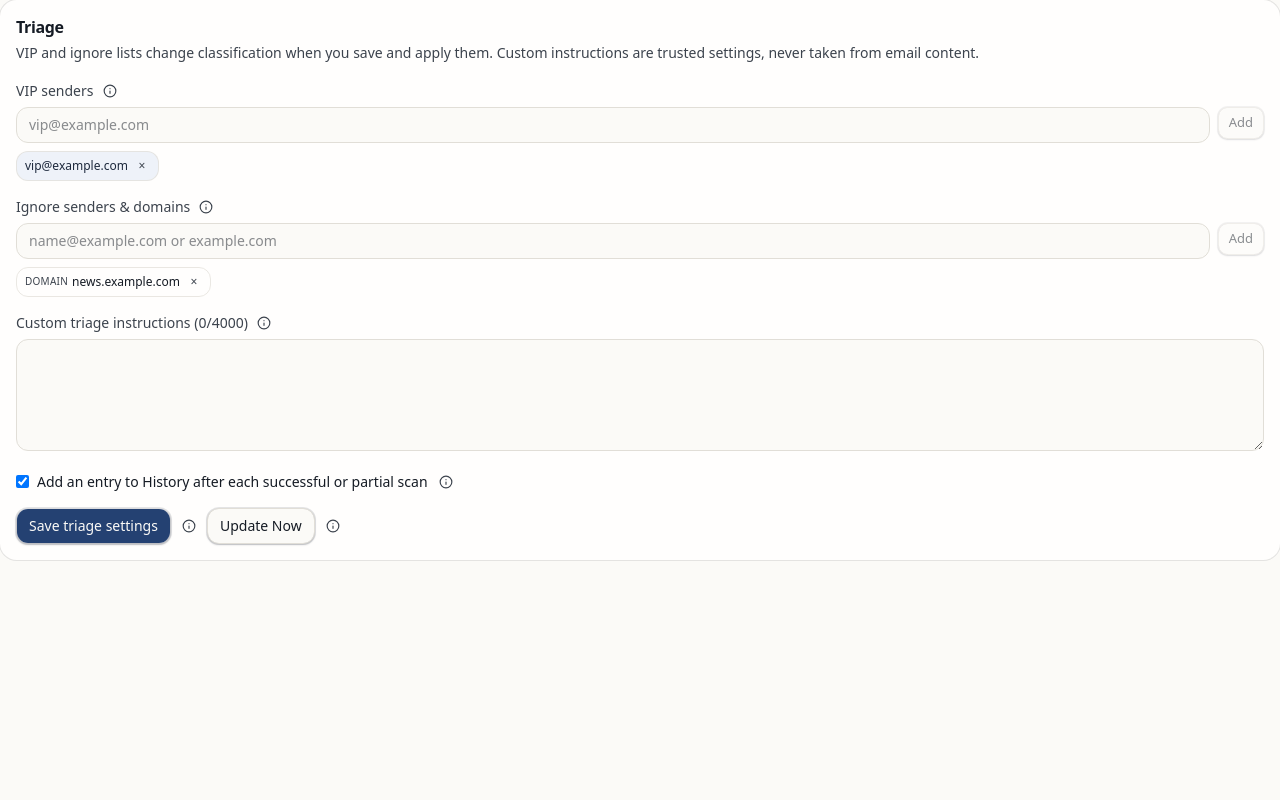
Test case: TriagePreferencesForm › Update Now saves settings then starts a default lookback scan
Click the button "Update Now" at x=261, y=526, box top-left (207, 508), bottom-right (315, 544)
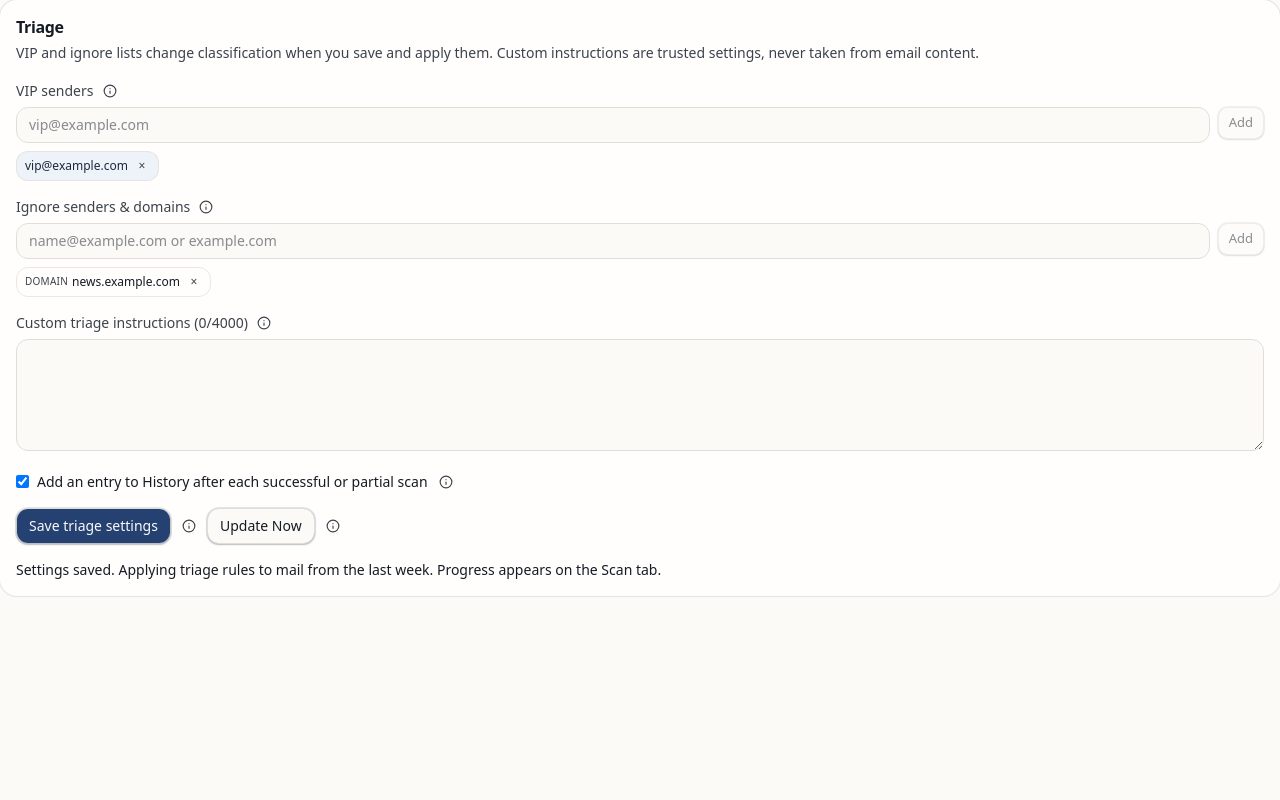
Expected: the text "Settings saved. Applying triage rules to mail from the last week. Progress appears on the Scan tab." is shown, top-left (16, 560), bottom-right (661, 579)
